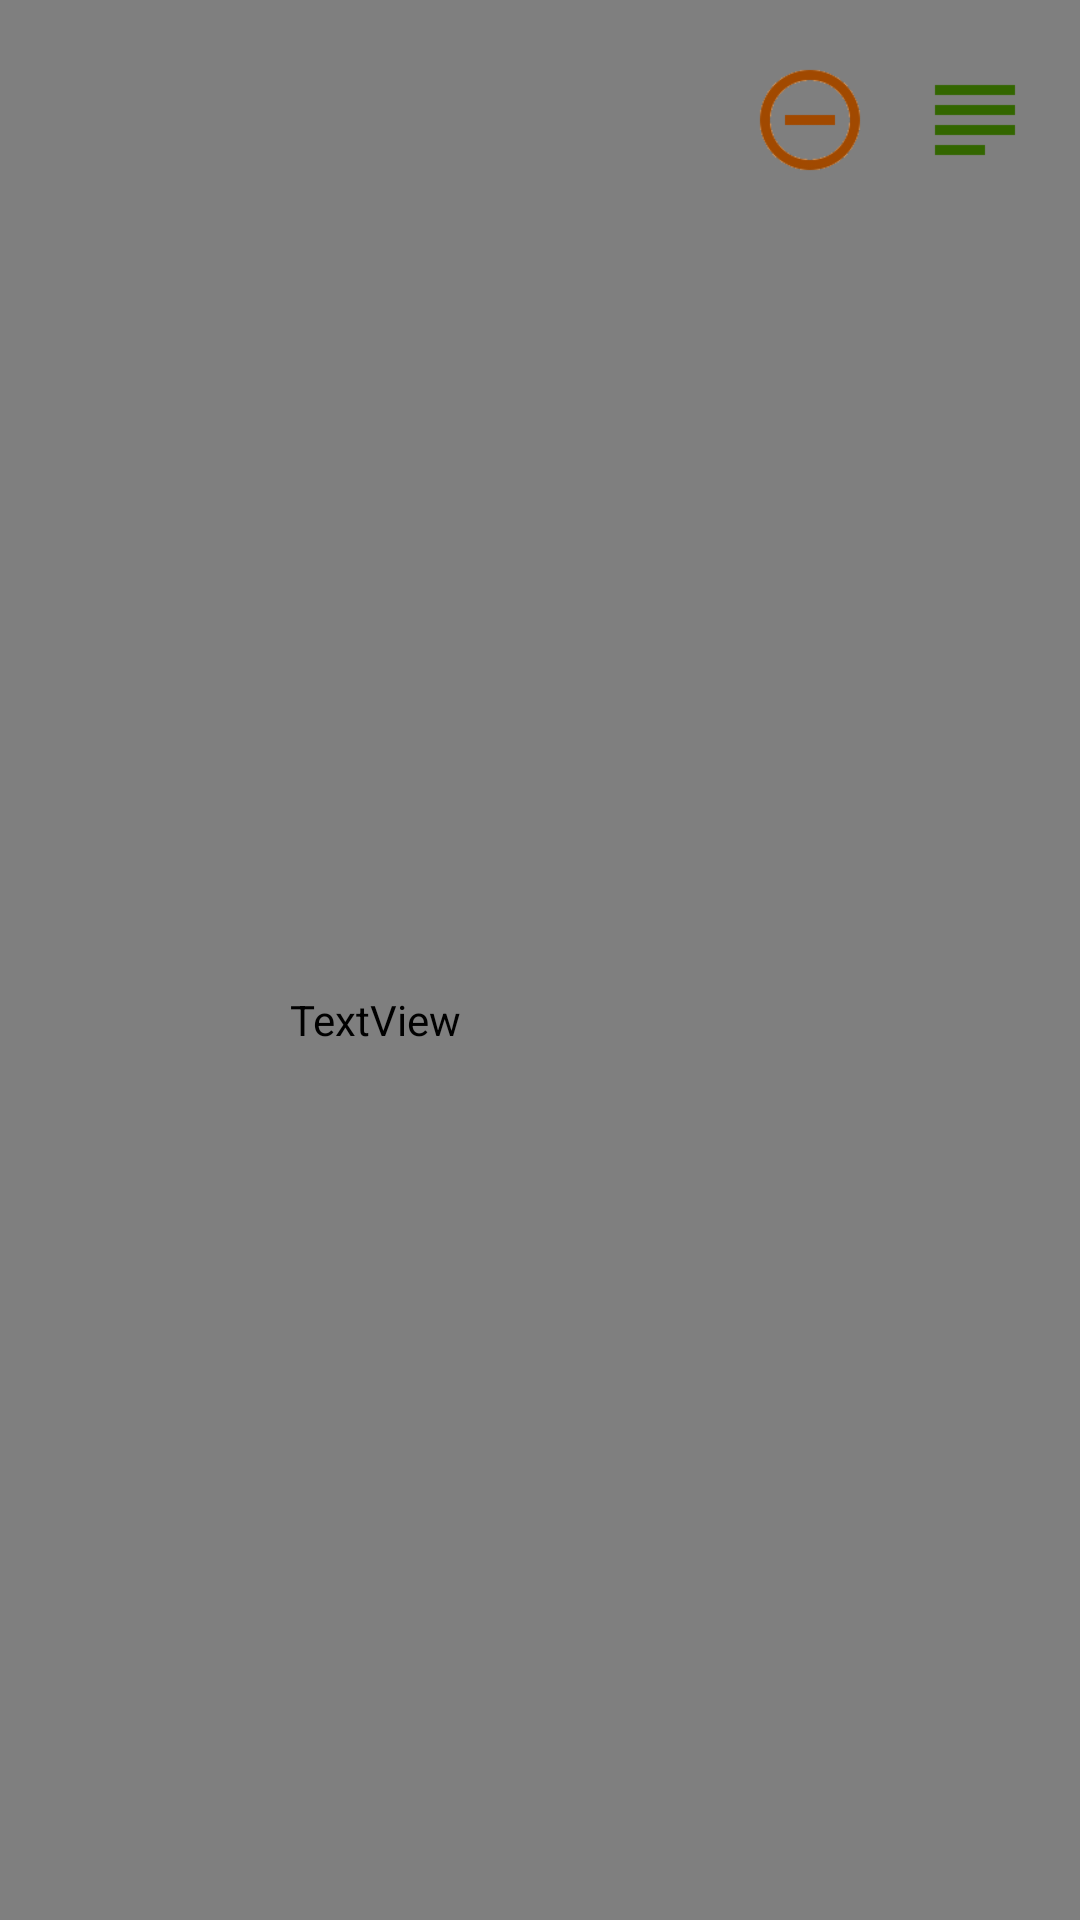

Point at icon controls on the screen. Image size 1080w x 1920h, points as (x=x, y=y).
delete: (x=810, y=120)
